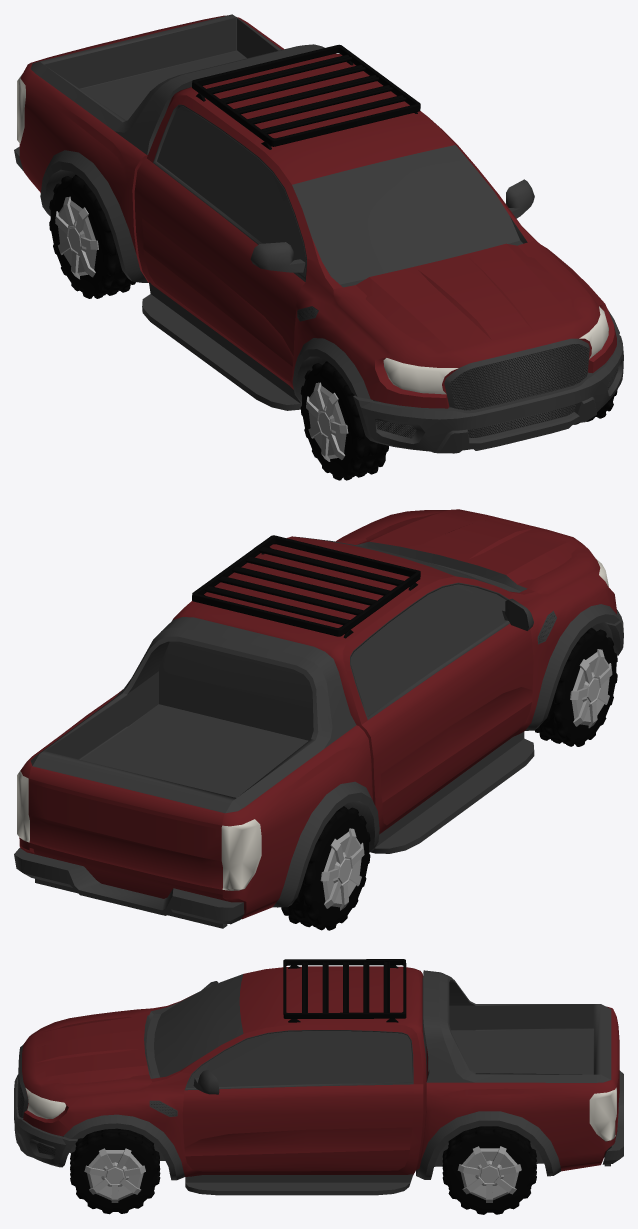
The model's file is Ford.fbx.
The picture shows the model from 3 angles, top to bottom: view 1: azimuth 30°, elevation 25°; view 2: azimuth 150°, elevation 25°; view 3: azimuth 270°, elevation 25°; orthographic projection. The views are drawn at different scales.
Visible parts, largest first — view 1: Body, Front bumper, Extra, Rear Right Wheel, Front Right Wheel, Front light; view 2: Body, Extra, Rear Right Wheel, Front Right Wheel, Rear Bumper, Rear light, Front bumper; view 3: Body, Rear Left Wheel, Front Left Wheel, Extra, Front bumper, Rear light, Rear Bumper, Front light.
Part boxes in pixels (box(x1,y1,x2,y2)): Body: box(19, 14, 619, 410); Front bumper: box(353, 335, 623, 453); Extra: box(192, 44, 420, 149); Rear Right Wheel: box(49, 174, 135, 298); Front Right Wheel: box(300, 361, 388, 480); Front light: box(383, 306, 608, 394); Body: box(19, 509, 619, 919); Extra: box(192, 535, 420, 638); Rear Right Wheel: box(281, 806, 370, 930); Front Right Wheel: box(534, 627, 617, 746); Rear Bumper: box(14, 848, 244, 928); Rear light: box(17, 771, 261, 890); Front bumper: box(591, 609, 623, 655); Body: box(17, 966, 619, 1195); Rear Left Wheel: box(442, 1126, 536, 1214); Front Left Wheel: box(70, 1128, 160, 1214); Extra: box(283, 959, 406, 1022); Front bumper: box(14, 1074, 77, 1167); Rear light: box(589, 1087, 616, 1141); Rear Bumper: box(602, 1070, 623, 1166); Front light: box(25, 1088, 66, 1118).
Size of the model in its own units: 226 by 187 by 569.
8 materials, 5 textured.
